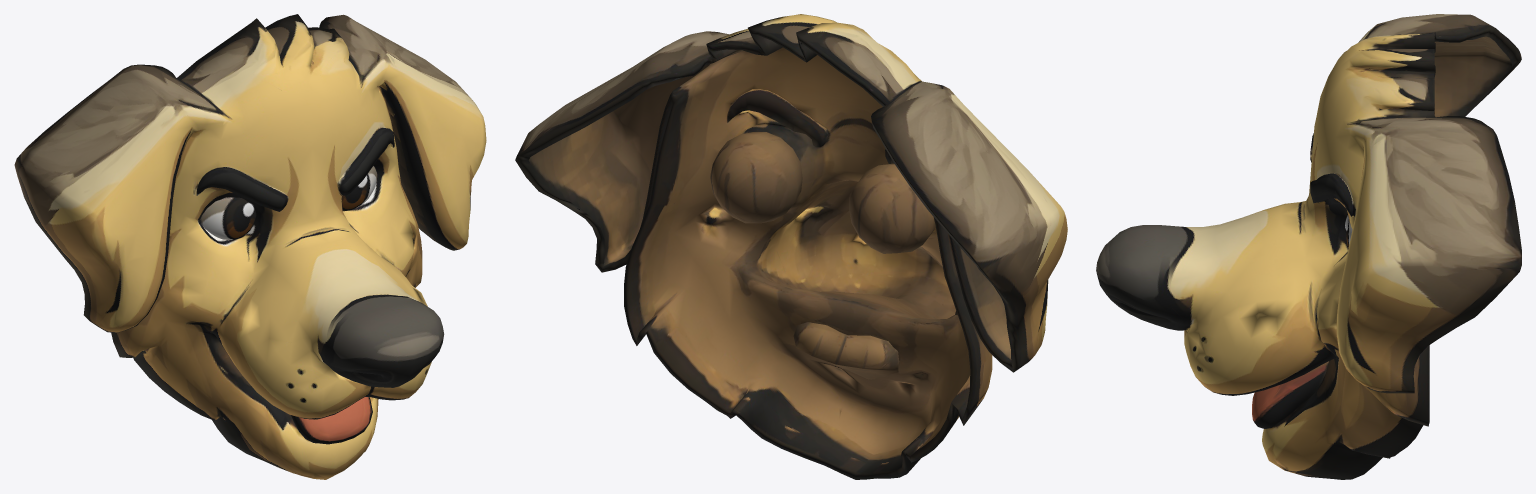
The model's file is buggy-dog.glb.
3 views of the same model, side by side, from view 1: azimuth 30°, elevation 25°; view 2: azimuth 150°, elevation 25°; view 3: azimuth 270°, elevation 25° (orthographic). The views are drawn at different scales.
Visible parts, largest first — view 1: tripo_node_8d6dc335-3e1e-4e8a-9dee-bcb8db18fa99; view 2: tripo_node_8d6dc335-3e1e-4e8a-9dee-bcb8db18fa99; view 3: tripo_node_8d6dc335-3e1e-4e8a-9dee-bcb8db18fa99.
Boxes of the visible parts, left/top/right/bottom form: tripo_node_8d6dc335-3e1e-4e8a-9dee-bcb8db18fa99: left=14, top=14, right=486, bottom=479; tripo_node_8d6dc335-3e1e-4e8a-9dee-bcb8db18fa99: left=515, top=14, right=1067, bottom=479; tripo_node_8d6dc335-3e1e-4e8a-9dee-bcb8db18fa99: left=1096, top=14, right=1521, bottom=479.
Bounding box in the file's own units: 0.4146 × 0.4 × 0.3481.
Materials: 1 (1 with a texture image).
